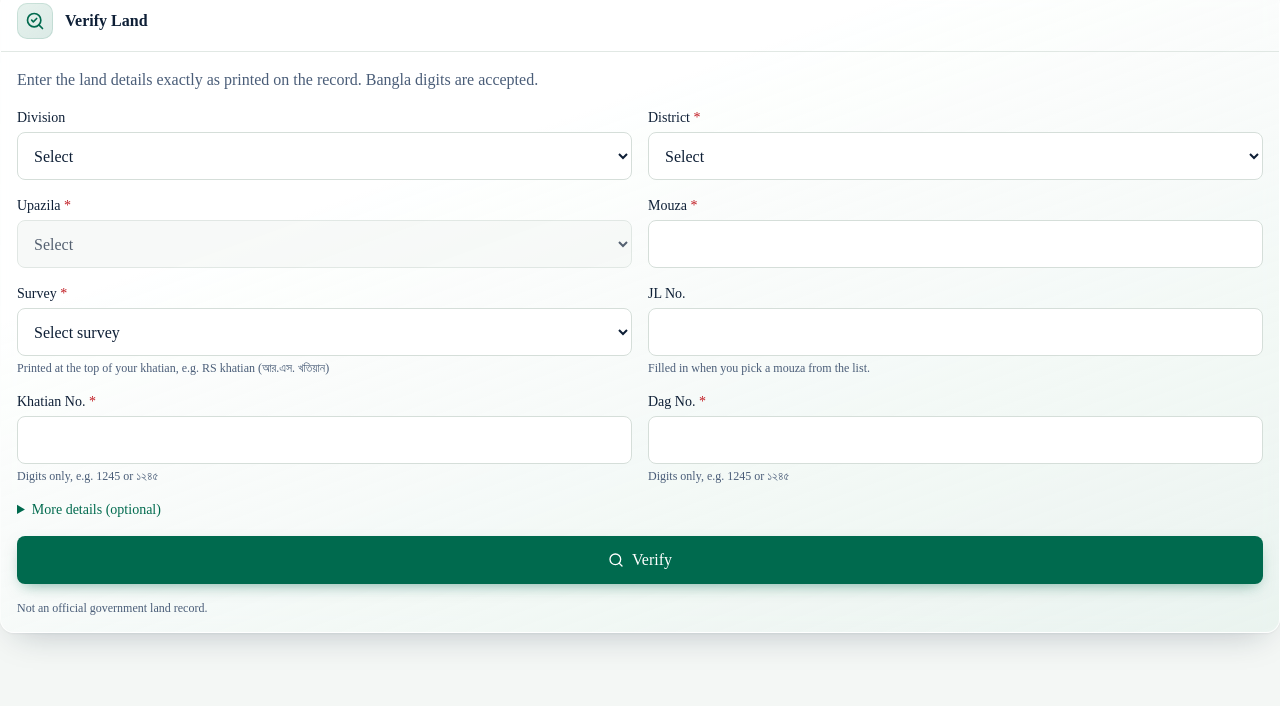
it: PublicSummary survey fields › shows Survey, JL and sheet, and an amber notice on SHEET_MISMATCH
The image size is (1280, 706).
Select "Gazipur (গাজীপুর)" in the dropdown labelled "District *" at (956, 156), box [648,132,1263,180]
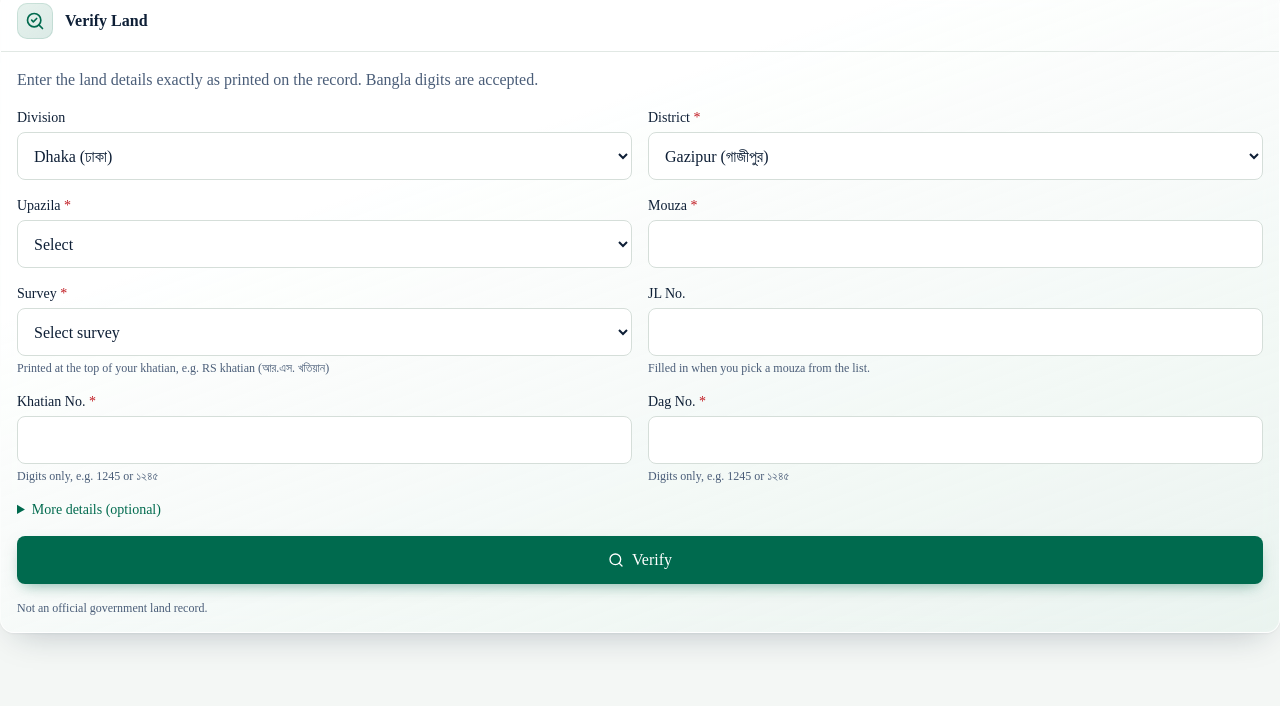
Select "Sreepur (শ্রীপুর)" in the dropdown labelled "Upazila *" at (324, 244), box [17,220,632,268]
Type "Barmi" into the field labelled "Mouza *" at (956, 244), box [648,220,1263,268]
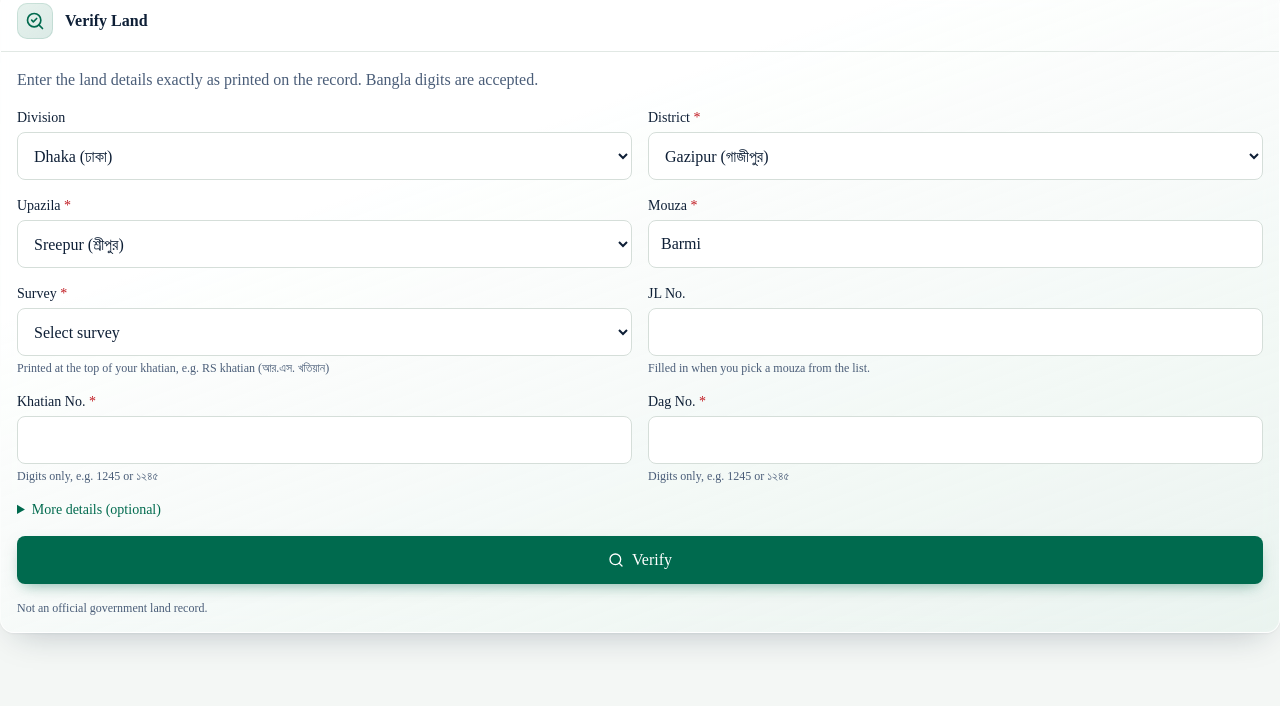
Select "RS (Revisional)" in the dropdown labelled "Survey *" at (324, 332), box [17,308,632,356]
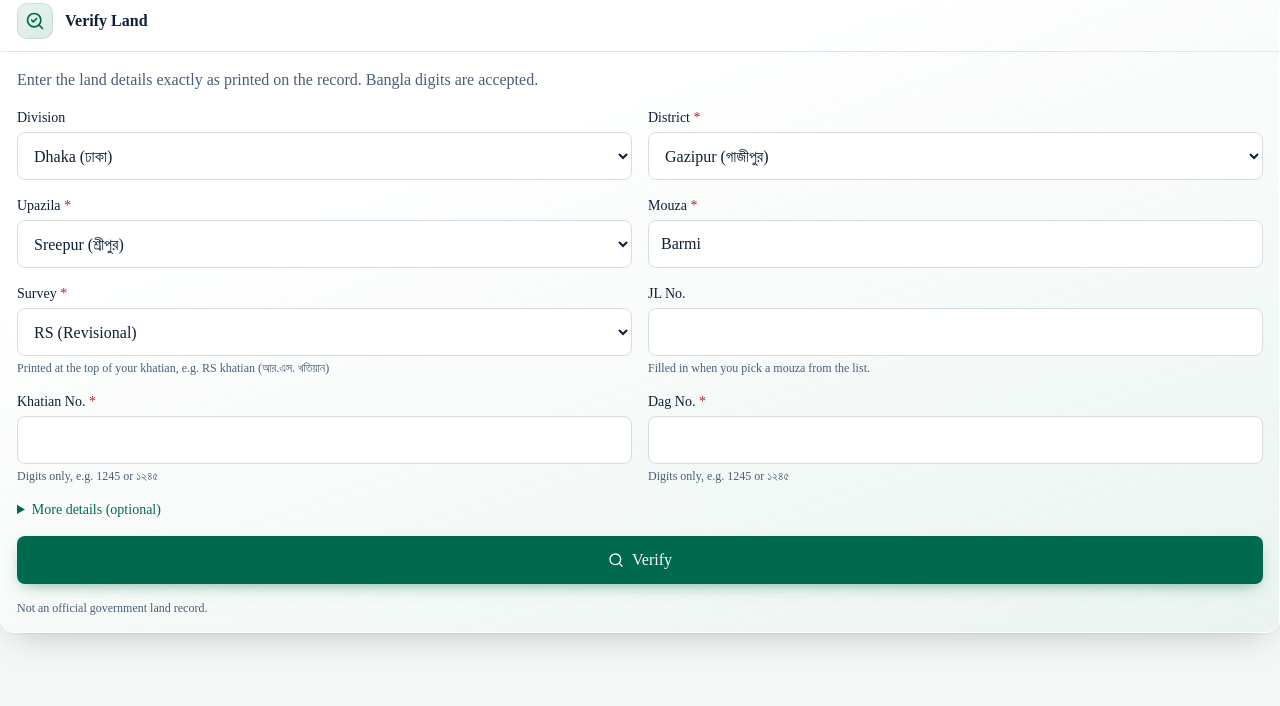
Type "১২৪৫" into the field labelled "Khatian No. *" at (324, 440), box [17,416,632,464]
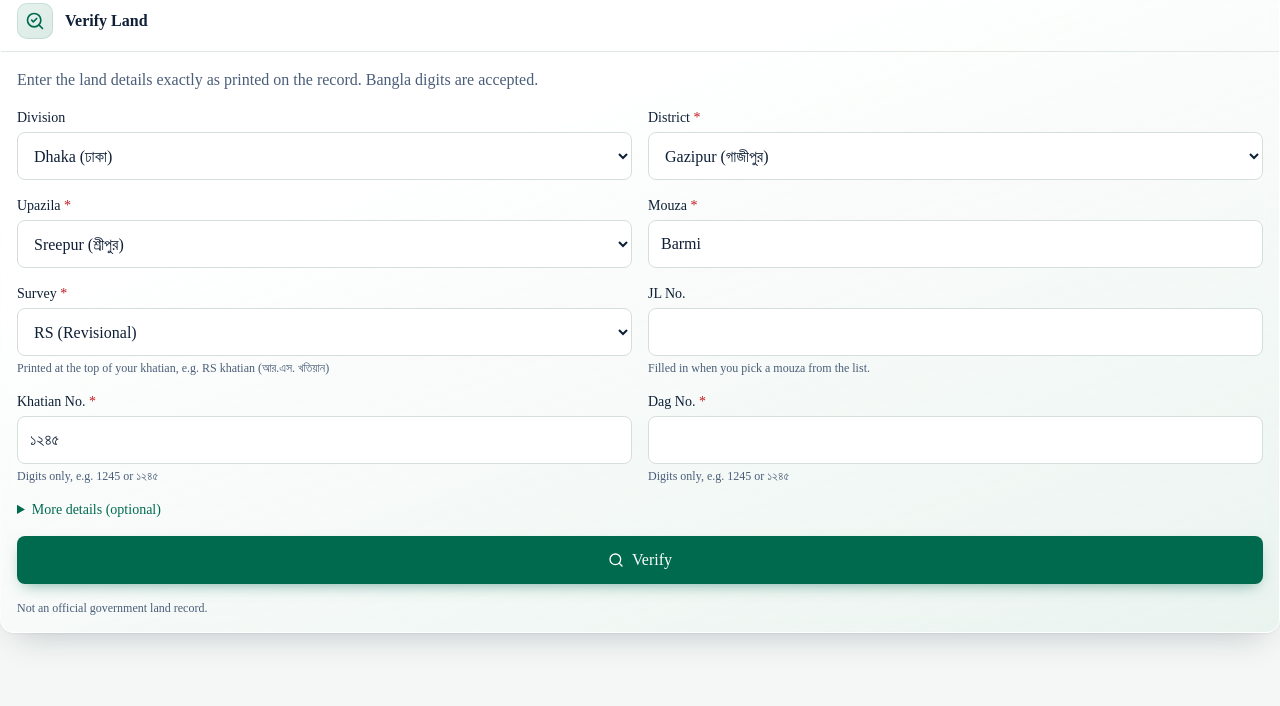
Type "785" into the field labelled "Dag No. *" at (956, 440), box [648,416,1263,464]
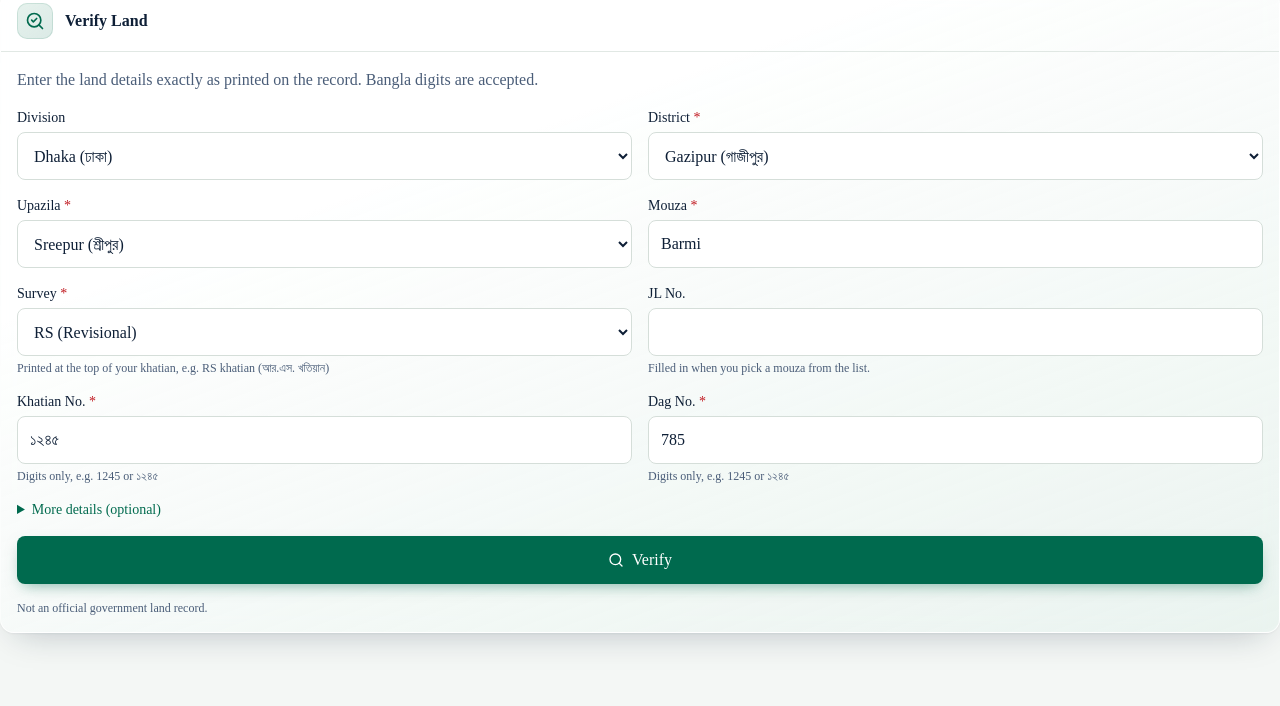
Click the button "Verify" at (640, 560), box [17,536,1263,584]
(page scrolled)
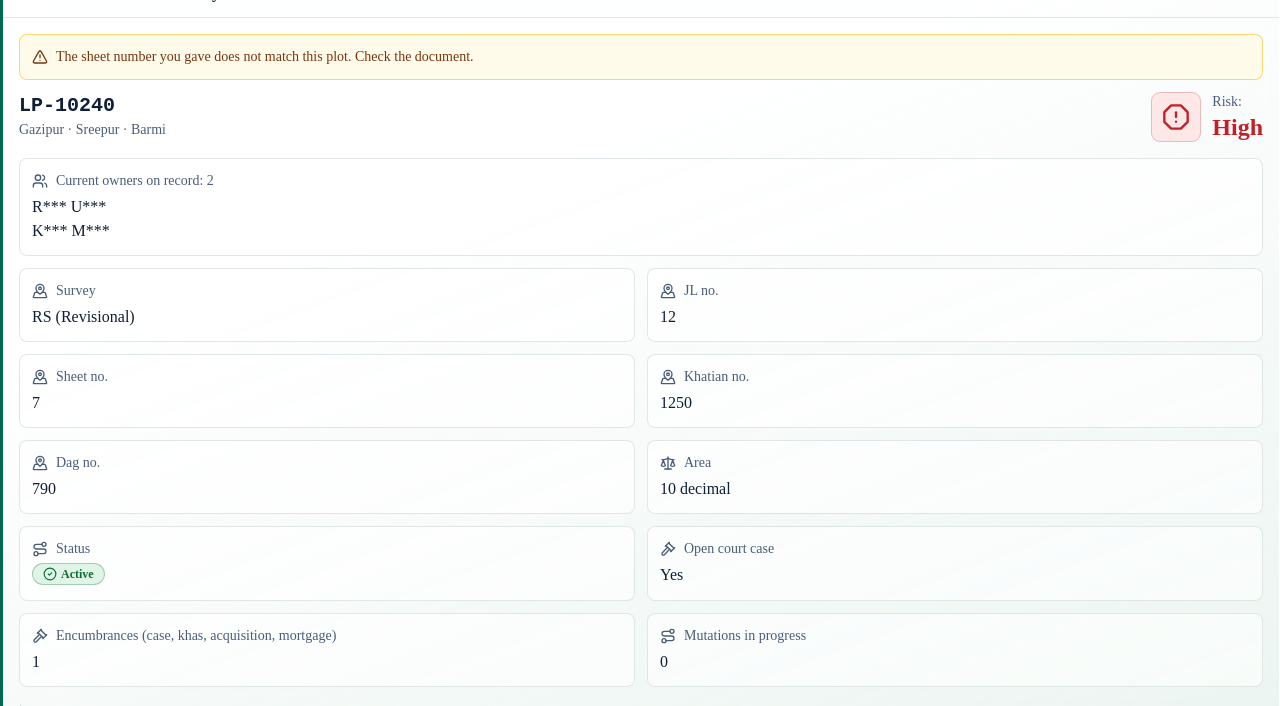
expect the element with test id "public-summary" shows "Survey": met, box [56,283,96,298]
expect the element with test id "public-summary" shows "JL no.": met, box [684,283,718,298]
expect the element with test id "public-summary" shows "The sheet number you gave does not match this plot. Check the document.": met, box [56,49,474,64]
